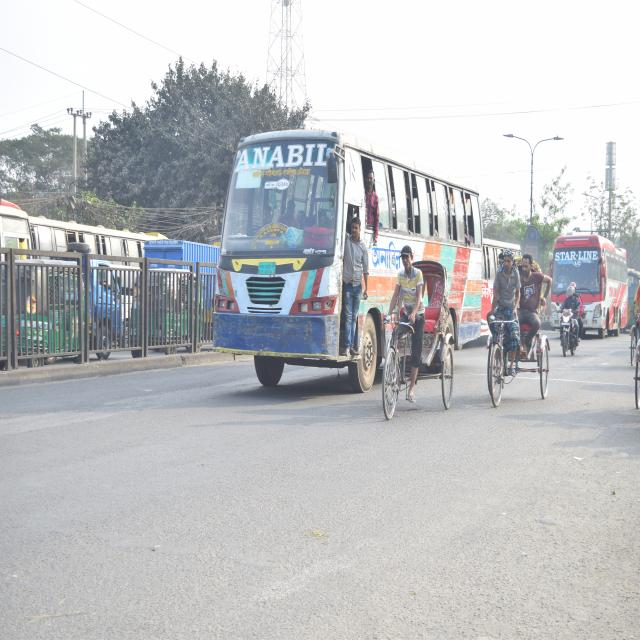bus: (210, 121, 477, 383), (545, 228, 629, 328), (483, 242, 529, 335)
motorbike: (552, 308, 580, 360)
